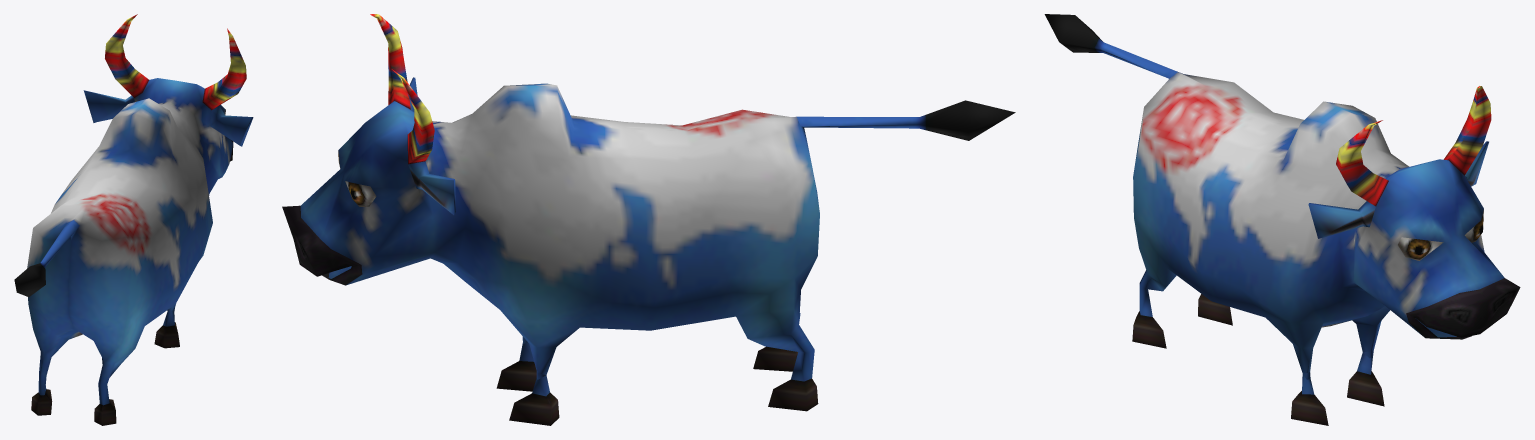
File: icon.ico.obj
3 views of the same model, side by side, from view 1: azimuth 30°, elevation 25°; view 2: azimuth 150°, elevation 25°; view 3: azimuth 270°, elevation 25° (orthographic). The views are drawn at different scales.
Size of the model in its own units: 4.29 by 2.98 by 3.64.
Materials: 1 (1 with a texture image).
